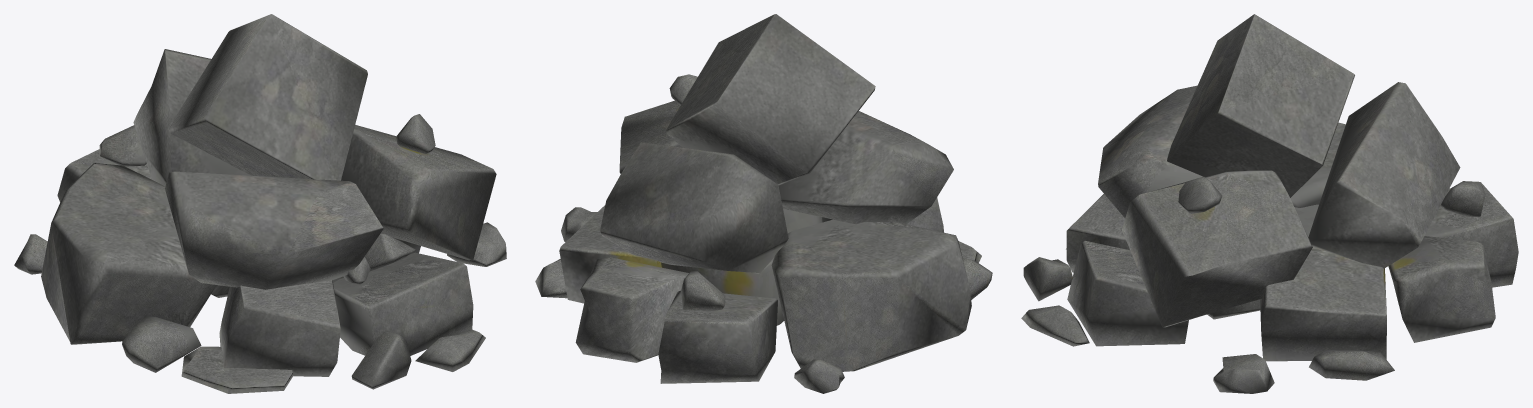
The model's file is mountains-scree.glb.
The picture shows the model from 3 angles, left to right: view 1: azimuth 30°, elevation 25°; view 2: azimuth 150°, elevation 25°; view 3: azimuth 270°, elevation 25°; orthographic projection. The views are drawn at different scales.
Bounding box in the file's own units: 0.9218 × 0.5948 × 0.9658.
Materials: 1 (1 with a texture image).
